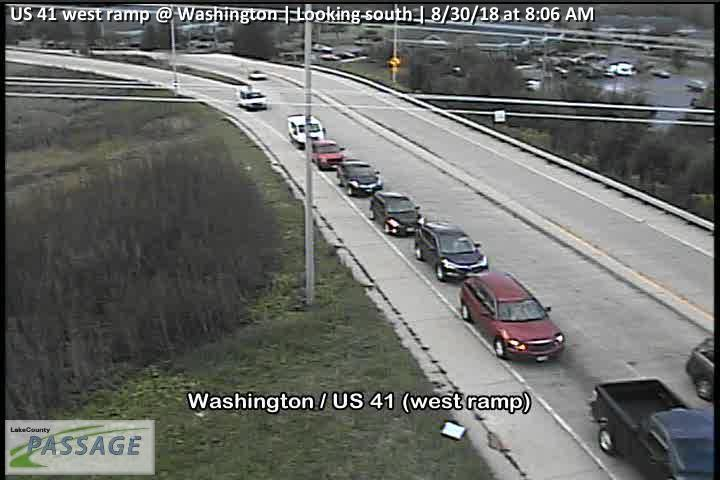SUV: (286, 115, 325, 146)
Sedan: (457, 269, 566, 361), (414, 220, 490, 282), (369, 189, 426, 236), (336, 158, 383, 195), (309, 138, 345, 169), (237, 87, 269, 111)
Truck: (590, 375, 719, 480)
